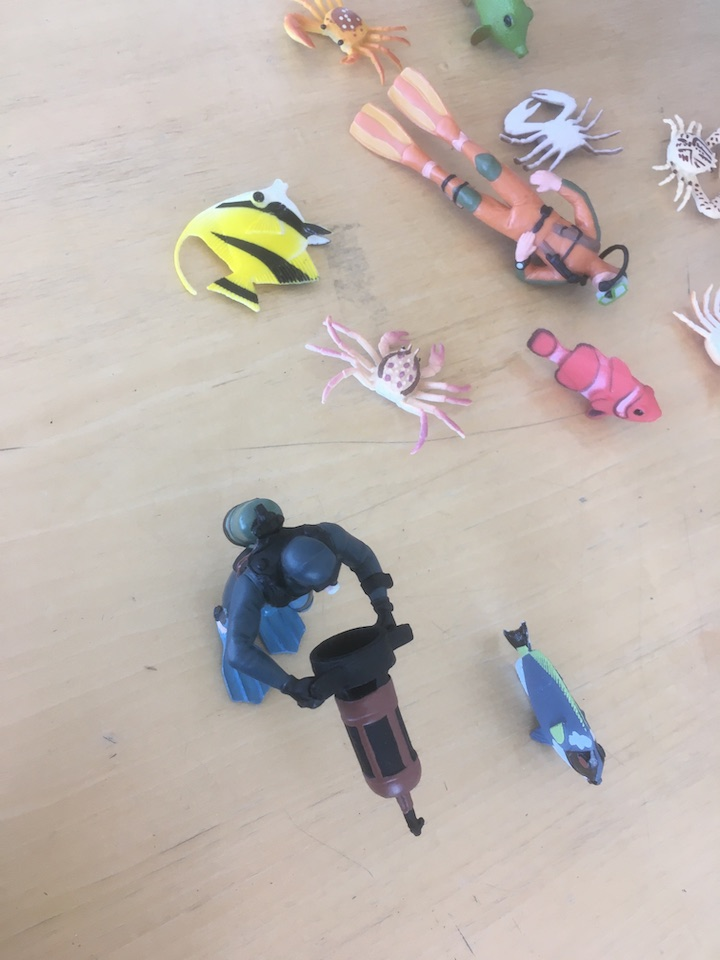crab: (305, 314, 474, 455), (489, 81, 628, 180), (278, 1, 418, 89), (643, 105, 720, 225), (664, 280, 720, 379)
danger: (171, 171, 336, 318)
diver: (206, 493, 435, 845), (346, 65, 635, 309)
fish: (495, 615, 616, 793), (521, 323, 667, 426), (459, 1, 542, 62)
